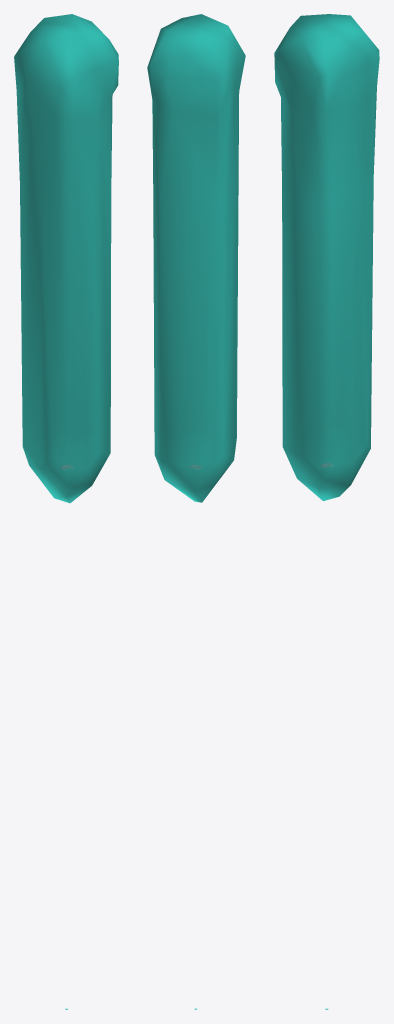
The picture shows the model from 3 angles, left to right: view 1: azimuth 90°, elevation 25°; view 2: azimuth 210°, elevation 25°; view 3: azimuth 270°, elevation 25°; orthographic projection.
Visible parts, largest first — view 1: Liquid_Domain; view 2: Liquid_Domain; view 3: Liquid_Domain.
Boxes of the visible parts, x1,y1,x2,y2 form: Liquid_Domain: (14,14,118,503); Liquid_Domain: (147,14,245,502); Liquid_Domain: (274,14,379,501).
Size of the model in its own units: 152 by 1514 by 146.
